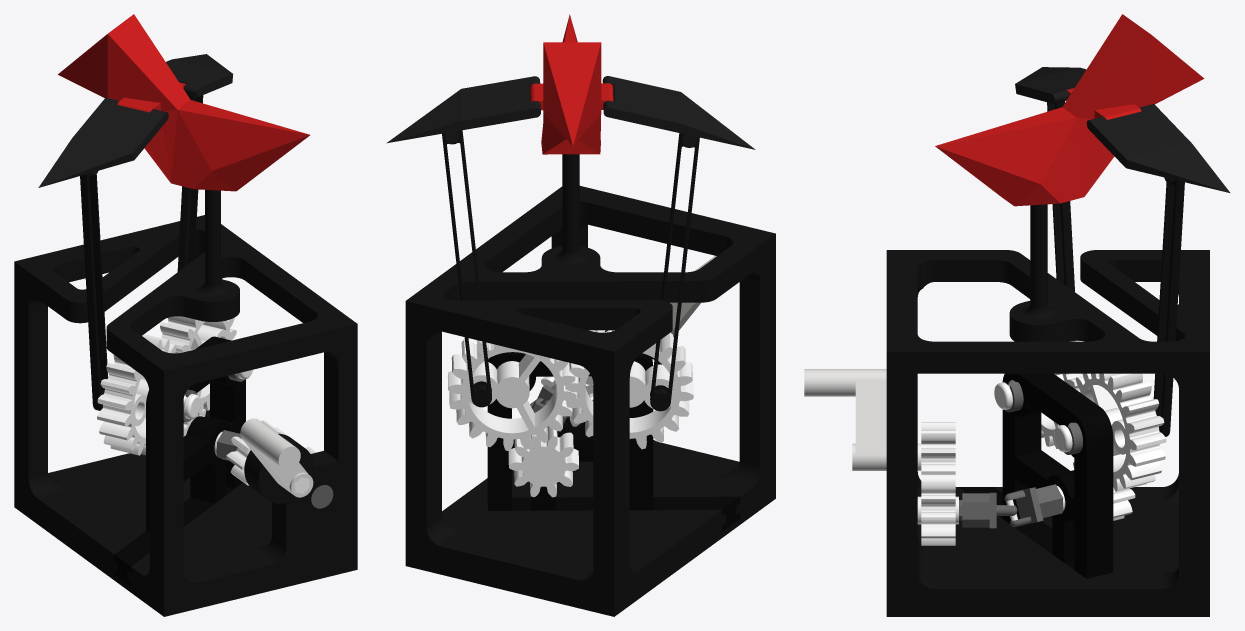
Rendered from Flying Bird Assembly.glb.
3 renders of one model, left to right at view 1: azimuth 30°, elevation 25°; view 2: azimuth 150°, elevation 25°; view 3: azimuth 270°, elevation 25°, orthographic. The views are drawn at different scales.
Parts seen in each view (by area): view 1: 343bca98-fe62-4026-8ab6-339ba9877d68, 2b105183-3d1b-42d4-afda-ca00019b0f54, 8965c5eb-5641-4157-947f-37365d0bd0ce, e5877eb3-8697-4037-bcf1-1f5ae645889e, mesh_18_instance_1, c8e5c120-d265-4057-b3ab-86ad7a617147, mesh_18_instance_0, 2da4cf43-8408-4855-a3ee-78072a0c3847, fb38368e-86fb-48f0-a276-a36f00fcf19f, fbb8fa94-902b-4c1b-acf7-82396a984117, f7f2728c-6061-43a3-9748-43435efcf5cf, 809f144c-1ab6-438e-9423-6b0897ab3f4a; view 2: 343bca98-fe62-4026-8ab6-339ba9877d68, 8965c5eb-5641-4157-947f-37365d0bd0ce, mesh_18_instance_0, 2b105183-3d1b-42d4-afda-ca00019b0f54, mesh_18_instance_1, 2da4cf43-8408-4855-a3ee-78072a0c3847, e5877eb3-8697-4037-bcf1-1f5ae645889e, b7e43795-aa19-44e4-a597-c1c2f88f8dda, c8e5c120-d265-4057-b3ab-86ad7a617147, fbb8fa94-902b-4c1b-acf7-82396a984117; view 3: 343bca98-fe62-4026-8ab6-339ba9877d68, 2b105183-3d1b-42d4-afda-ca00019b0f54, 8965c5eb-5641-4157-947f-37365d0bd0ce, mesh_18_instance_0, 2da4cf43-8408-4855-a3ee-78072a0c3847, fbb8fa94-902b-4c1b-acf7-82396a984117, fb38368e-86fb-48f0-a276-a36f00fcf19f, ba935576-6b27-4dd9-9e66-08a03e77cfe6, 809f144c-1ab6-438e-9423-6b0897ab3f4a, e5877eb3-8697-4037-bcf1-1f5ae645889e, c8e5c120-d265-4057-b3ab-86ad7a617147, 3b469005-7efd-4960-a3cb-0997be723ba8 (+4 smaller).
Part boxes in pixels (x1,y1,x2,y2): 343bca98-fe62-4026-8ab6-339ba9877d68: [14, 190, 357, 616]; 2b105183-3d1b-42d4-afda-ca00019b0f54: [58, 14, 309, 191]; 8965c5eb-5641-4157-947f-37365d0bd0ce: [114, 336, 245, 586]; e5877eb3-8697-4037-bcf1-1f5ae645889e: [38, 97, 168, 187]; mesh_18_instance_1: [97, 334, 200, 455]; c8e5c120-d265-4057-b3ab-86ad7a617147: [80, 173, 107, 410]; mesh_18_instance_0: [160, 316, 252, 415]; 2da4cf43-8408-4855-a3ee-78072a0c3847: [166, 54, 233, 96]; fb38368e-86fb-48f0-a276-a36f00fcf19f: [240, 418, 313, 497]; fbb8fa94-902b-4c1b-acf7-82396a984117: [177, 94, 203, 271]; f7f2728c-6061-43a3-9748-43435efcf5cf: [254, 429, 300, 470]; 809f144c-1ab6-438e-9423-6b0897ab3f4a: [226, 420, 309, 493]; 343bca98-fe62-4026-8ab6-339ba9877d68: [405, 154, 775, 616]; 8965c5eb-5641-4157-947f-37365d0bd0ce: [487, 352, 740, 531]; mesh_18_instance_0: [447, 339, 576, 450]; 2b105183-3d1b-42d4-afda-ca00019b0f54: [530, 14, 613, 154]; mesh_18_instance_1: [565, 330, 693, 449]; 2da4cf43-8408-4855-a3ee-78072a0c3847: [386, 76, 540, 143]; e5877eb3-8697-4037-bcf1-1f5ae645889e: [602, 76, 755, 149]; b7e43795-aa19-44e4-a597-c1c2f88f8dda: [508, 426, 578, 497]; c8e5c120-d265-4057-b3ab-86ad7a617147: [650, 133, 699, 411]; fbb8fa94-902b-4c1b-acf7-82396a984117: [442, 130, 491, 407]; 343bca98-fe62-4026-8ab6-339ba9877d68: [886, 204, 1209, 616]; 2b105183-3d1b-42d4-afda-ca00019b0f54: [935, 14, 1204, 206]; 8965c5eb-5641-4157-947f-37365d0bd0ce: [958, 373, 1113, 578]; mesh_18_instance_0: [1054, 373, 1166, 491]; 2da4cf43-8408-4855-a3ee-78072a0c3847: [1086, 104, 1230, 192]; fbb8fa94-902b-4c1b-acf7-82396a984117: [1153, 180, 1184, 436]; fb38368e-86fb-48f0-a276-a36f00fcf19f: [852, 369, 886, 470]; ba935576-6b27-4dd9-9e66-08a03e77cfe6: [917, 475, 958, 545]; 809f144c-1ab6-438e-9423-6b0897ab3f4a: [917, 422, 955, 475]; e5877eb3-8697-4037-bcf1-1f5ae645889e: [1015, 67, 1086, 103]; c8e5c120-d265-4057-b3ab-86ad7a617147: [1047, 101, 1074, 291]; 3b469005-7efd-4960-a3cb-0997be723ba8: [1004, 484, 1062, 527].
Bounding box in the file's own units: 0.1027 × 0.1882 × 0.1376.
